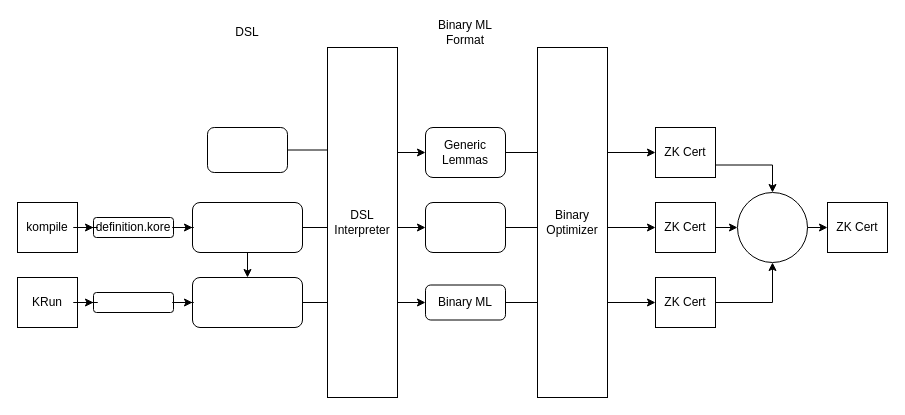
The diagram is 905 pixels wide and 415 high, and some of its shapes have lost their labels. The shapes that lost their labels are listed below. From the top down, each one's centre as x and y in pixels, then its label:
At point (247, 149): "Handwritten Proofs using tactics".
At point (247, 227): "Language Specification".
At point (465, 227): "Language Specific lemmas".
At point (772, 227): "Aggregator".
At point (133, 302): "Proof hint".
At point (247, 302): "Execution Proof Generator".
